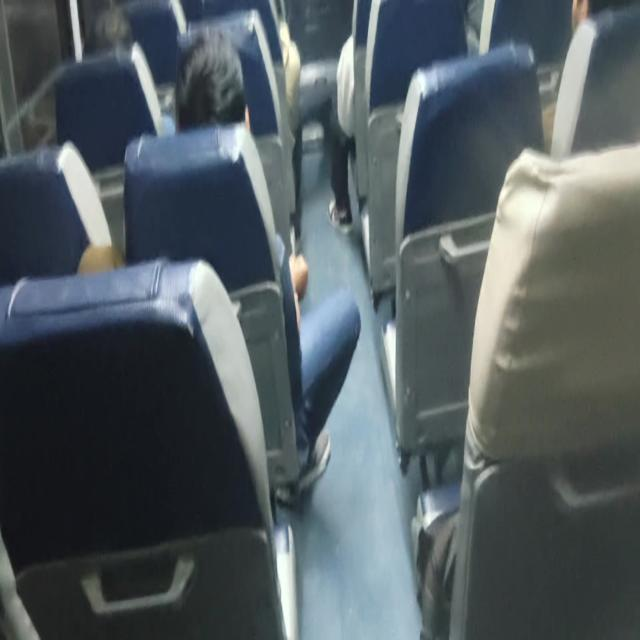person: (173, 29, 361, 502)
